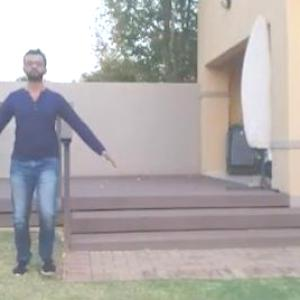land: (0, 50, 126, 282)
